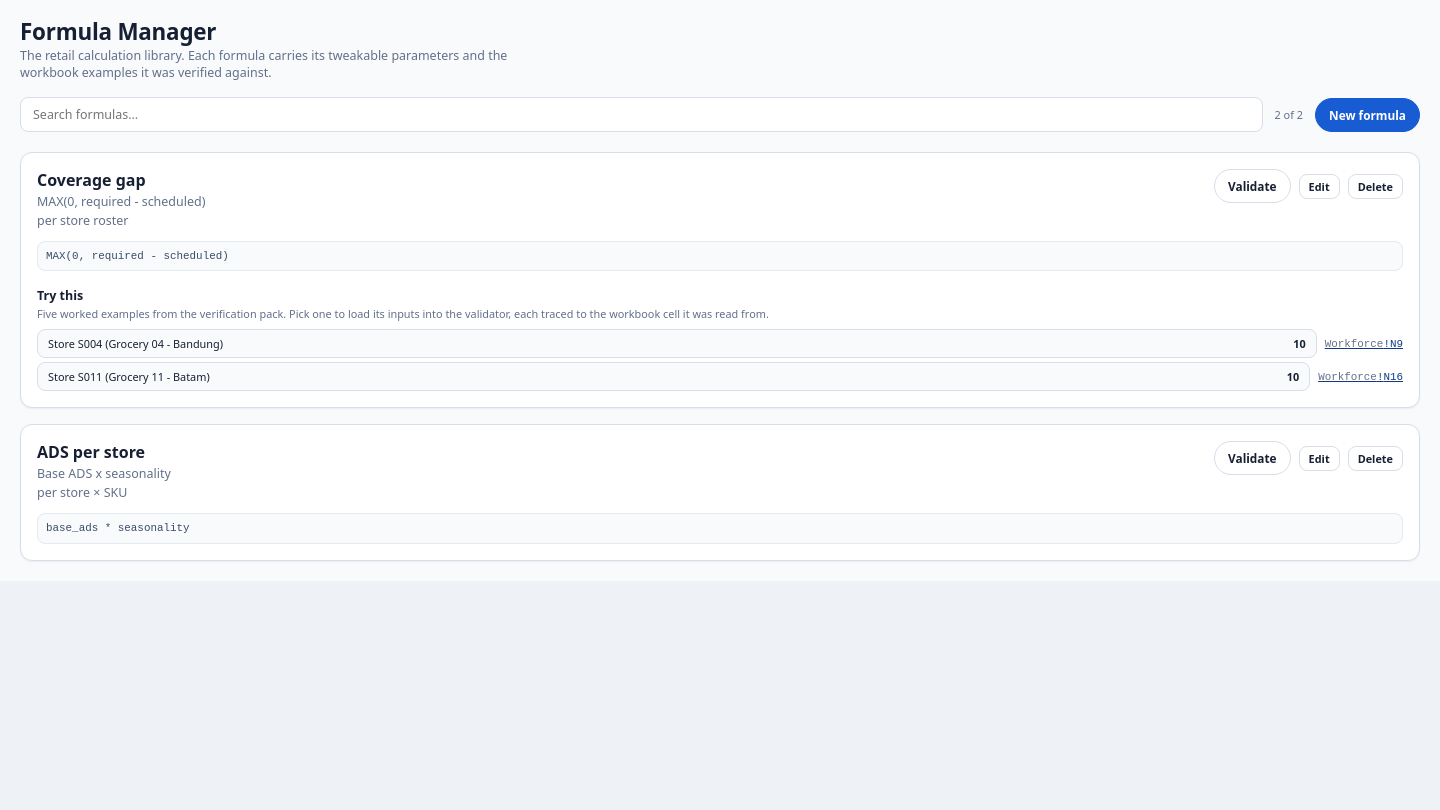
Test: Formula Manager › traces every loaded input back to its workbook cell
Expected: the heading "Coverage gap" is shown, [37,169,146,191]
Click the text "Store S004 (Grocery 04 - Bandung)" at (136, 344), box [48,336,223,351]
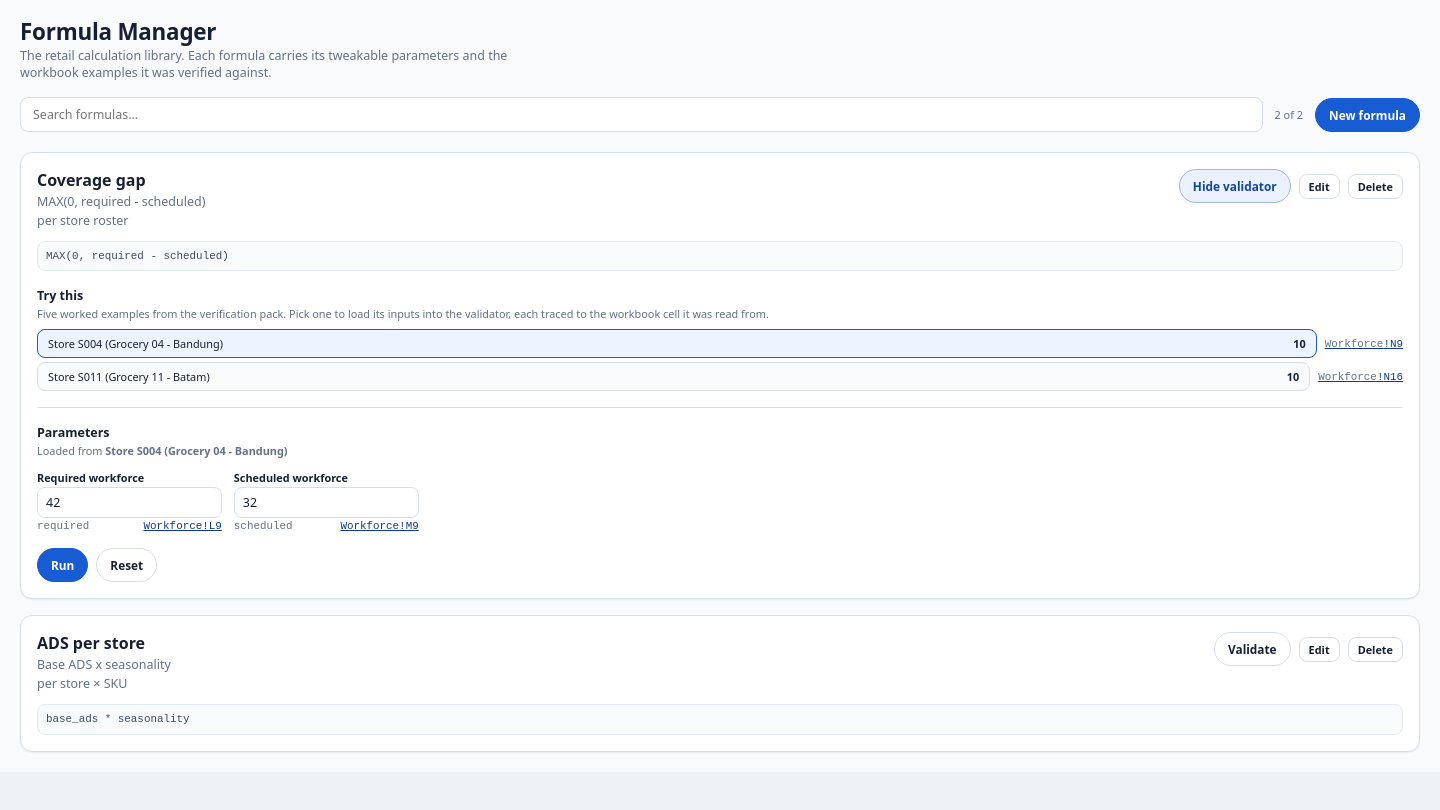
Expected: the link titled "Open Workforce!M9 in the workbook" is shown, [340,520,419,532]
